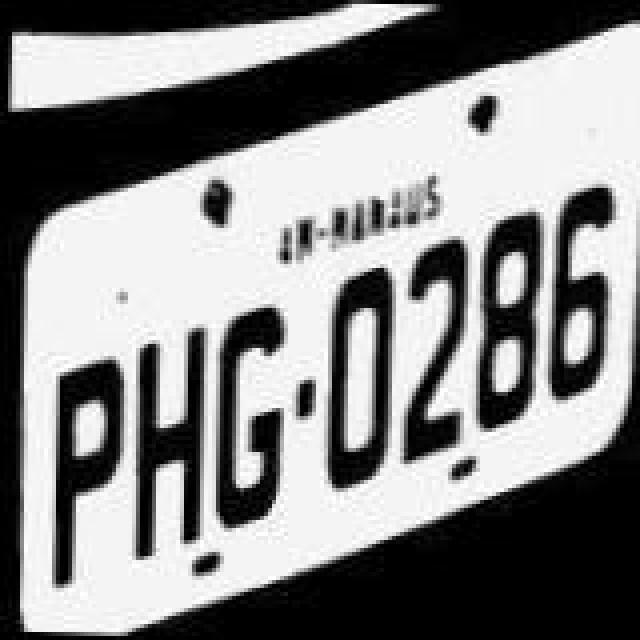2: (394, 234, 474, 462)
6: (542, 176, 618, 400)
8: (466, 204, 546, 424)
G: (206, 300, 286, 528)
H: (124, 322, 208, 562)
O: (320, 260, 392, 488)
P: (40, 354, 128, 590)
